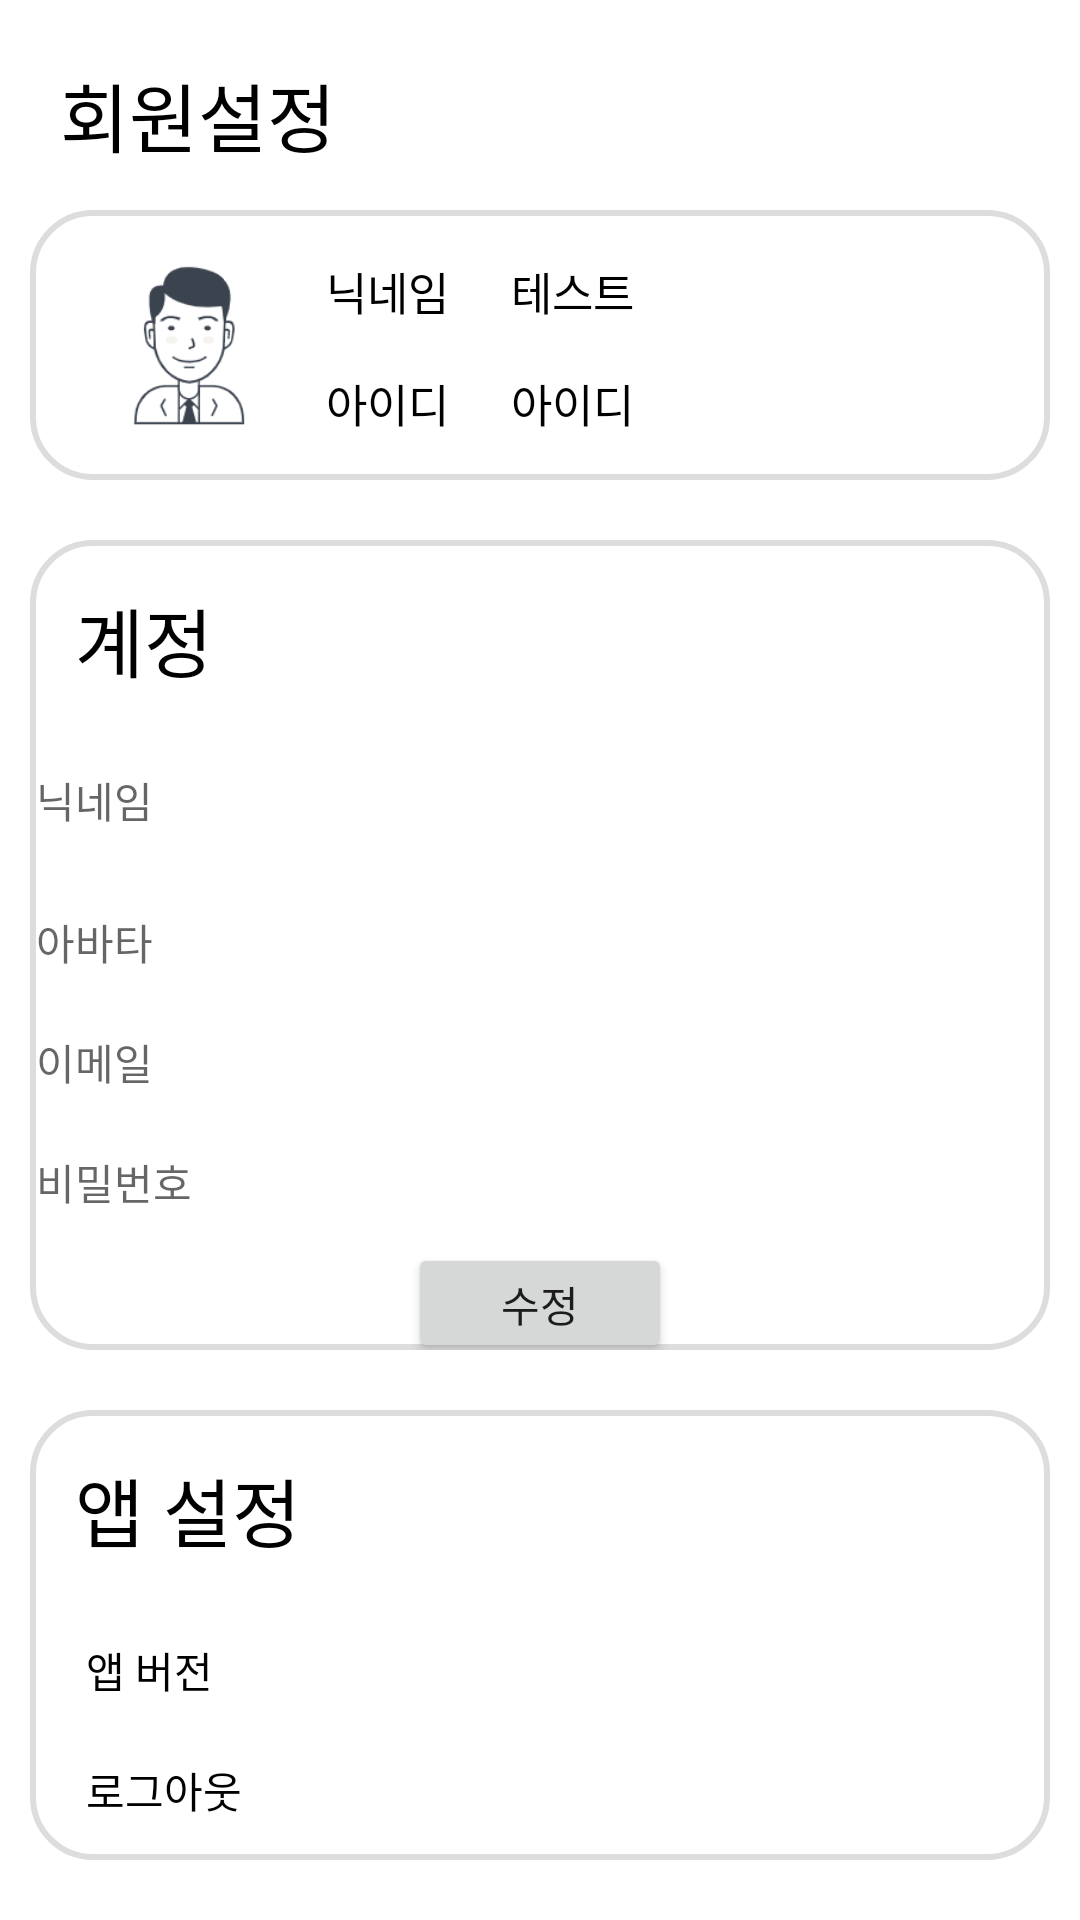

Locate icon controls on the screen. Image size 1080 × 1920, boxes as BBox(x1, y1, x2, y2).
user: BBox(133, 267, 245, 425)
